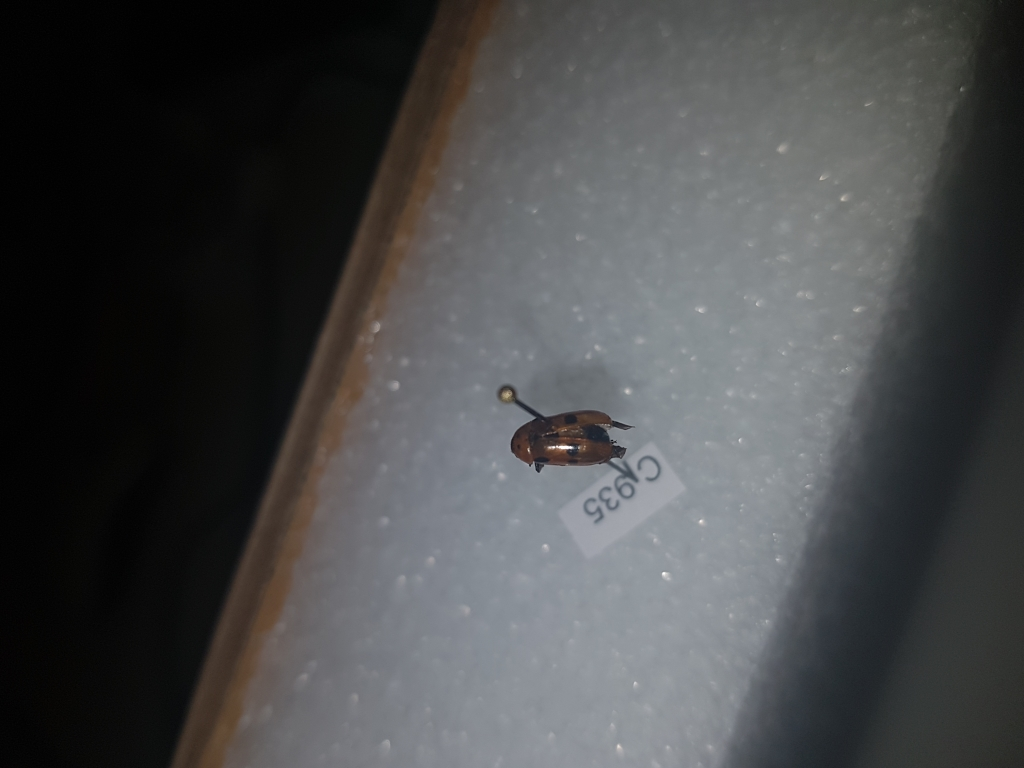Clytra_novempunctata: (502, 402, 635, 467)
